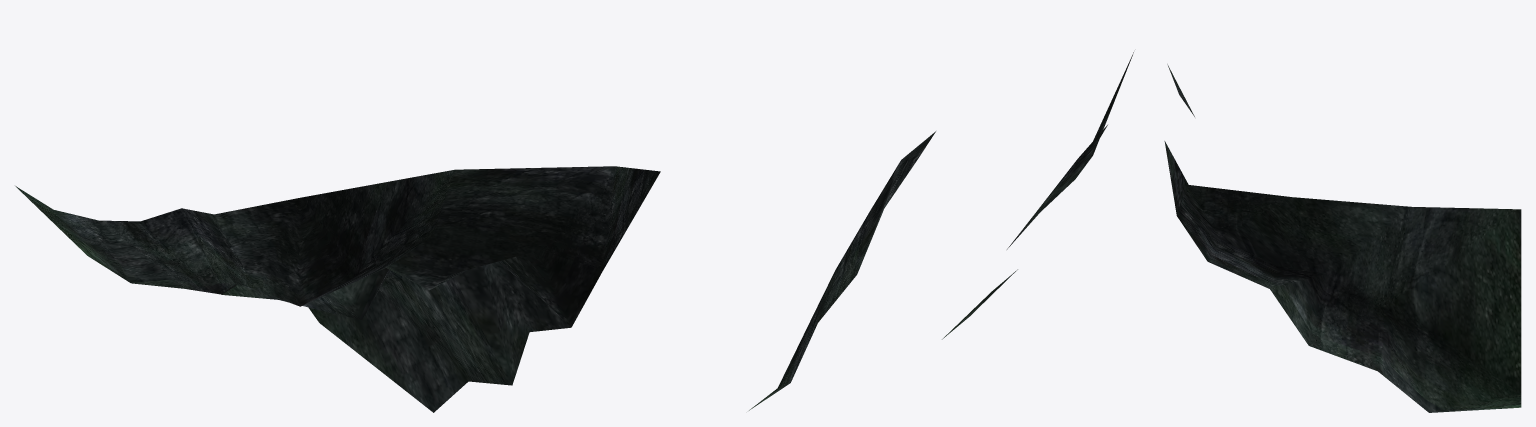
3 renders of one model, left to right at view 1: azimuth 30°, elevation 25°; view 2: azimuth 150°, elevation 25°; view 3: azimuth 270°, elevation 25°, orthographic. The views are drawn at different scales.
Visible parts, largest first — view 1: model_Object23; view 2: model_Object23; view 3: model_Object23.
Part boxes in pixels (left/top/right/bottom): model_Object23: left=15, top=166, right=660, bottom=412; model_Object23: left=749, top=52, right=1133, bottom=410; model_Object23: left=1164, top=64, right=1521, bottom=412.
Bounding box in the file's own units: 3.82 × 3.58 × 3.95.
Materials: 1 (1 with a texture image).
